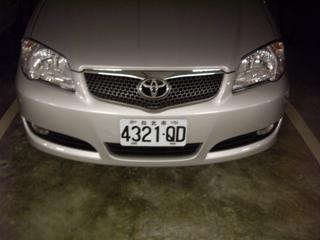plate: (119, 118, 188, 148)
